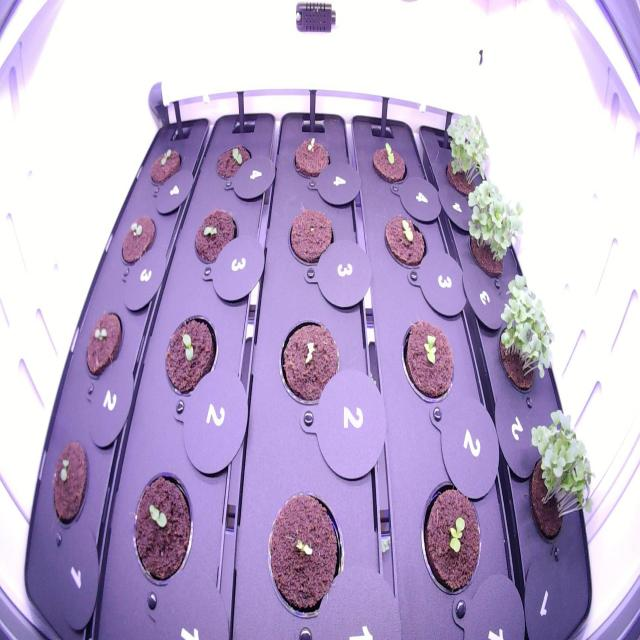germination: (257, 484, 348, 630), (125, 465, 196, 596), (418, 473, 484, 607), (276, 316, 345, 412), (159, 308, 223, 404), (396, 314, 458, 406), (45, 434, 95, 536), (188, 203, 243, 278), (79, 302, 127, 386), (379, 208, 429, 274), (116, 207, 160, 273), (286, 130, 334, 189), (211, 135, 256, 190), (366, 137, 410, 190), (147, 140, 186, 192)
pod: (281, 200, 339, 276)
